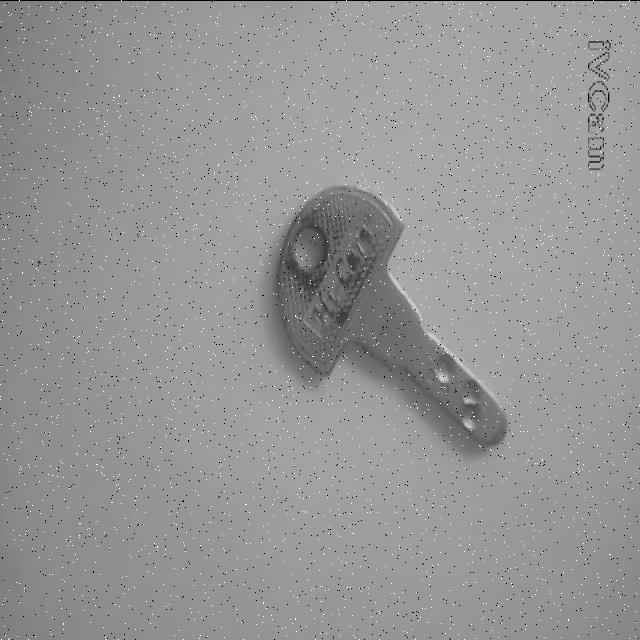key: (279, 185, 507, 445)
